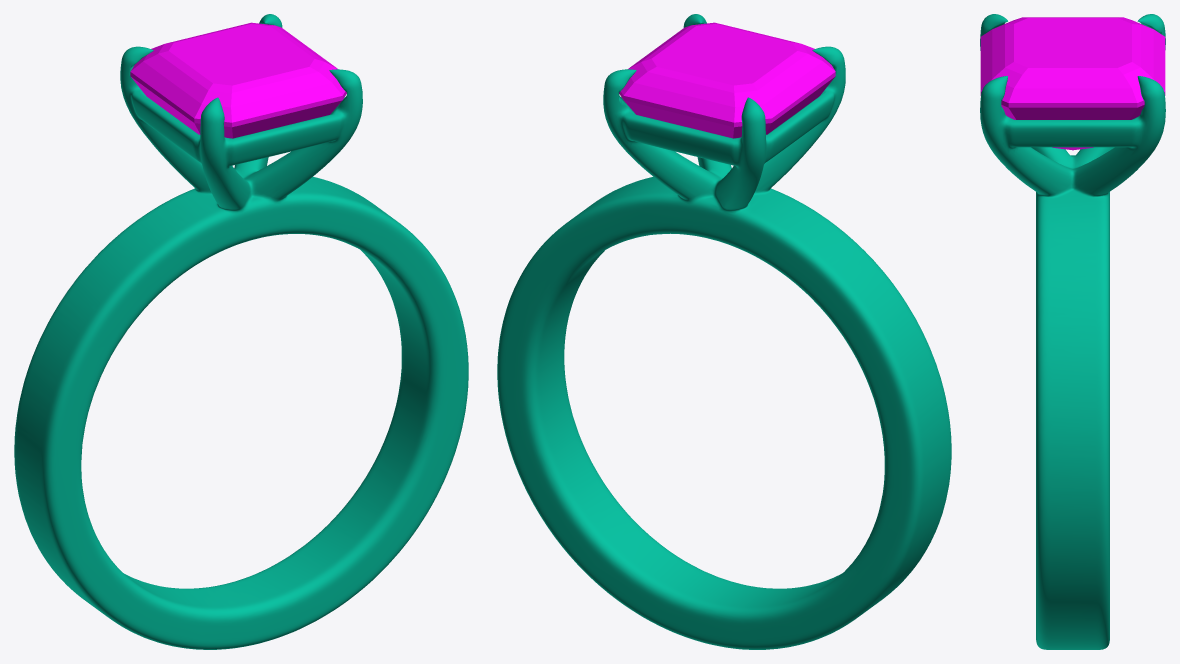
Rendered from BE1182_AS_200ct_RENDER.glb.
3 renders of one model, left to right at view 1: azimuth 30°, elevation 25°; view 2: azimuth 150°, elevation 25°; view 3: azimuth 270°, elevation 25°, orthographic.
Parts seen in each view (by area): view 1: Metal 01, CS_Diamond_Asscher; view 2: Metal 01, CS_Diamond_Asscher; view 3: Metal 01, CS_Diamond_Asscher.
Part boxes in pixels (x1,y1,x2,y2): Metal 01: (14, 14, 468, 649); CS_Diamond_Asscher: (130, 22, 346, 138); Metal 01: (497, 14, 951, 649); CS_Diamond_Asscher: (619, 22, 835, 138); Metal 01: (980, 14, 1165, 649); CS_Diamond_Asscher: (980, 17, 1165, 150).
Bounding box in the file's own units: 20.1 × 26.17 × 7.55.
